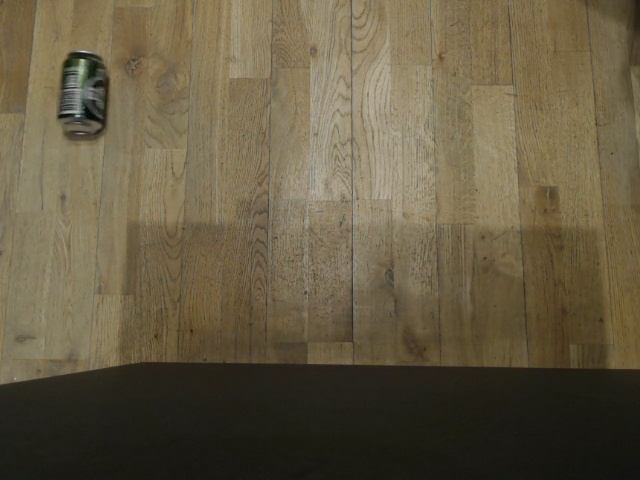beer: (52, 47, 113, 141)
